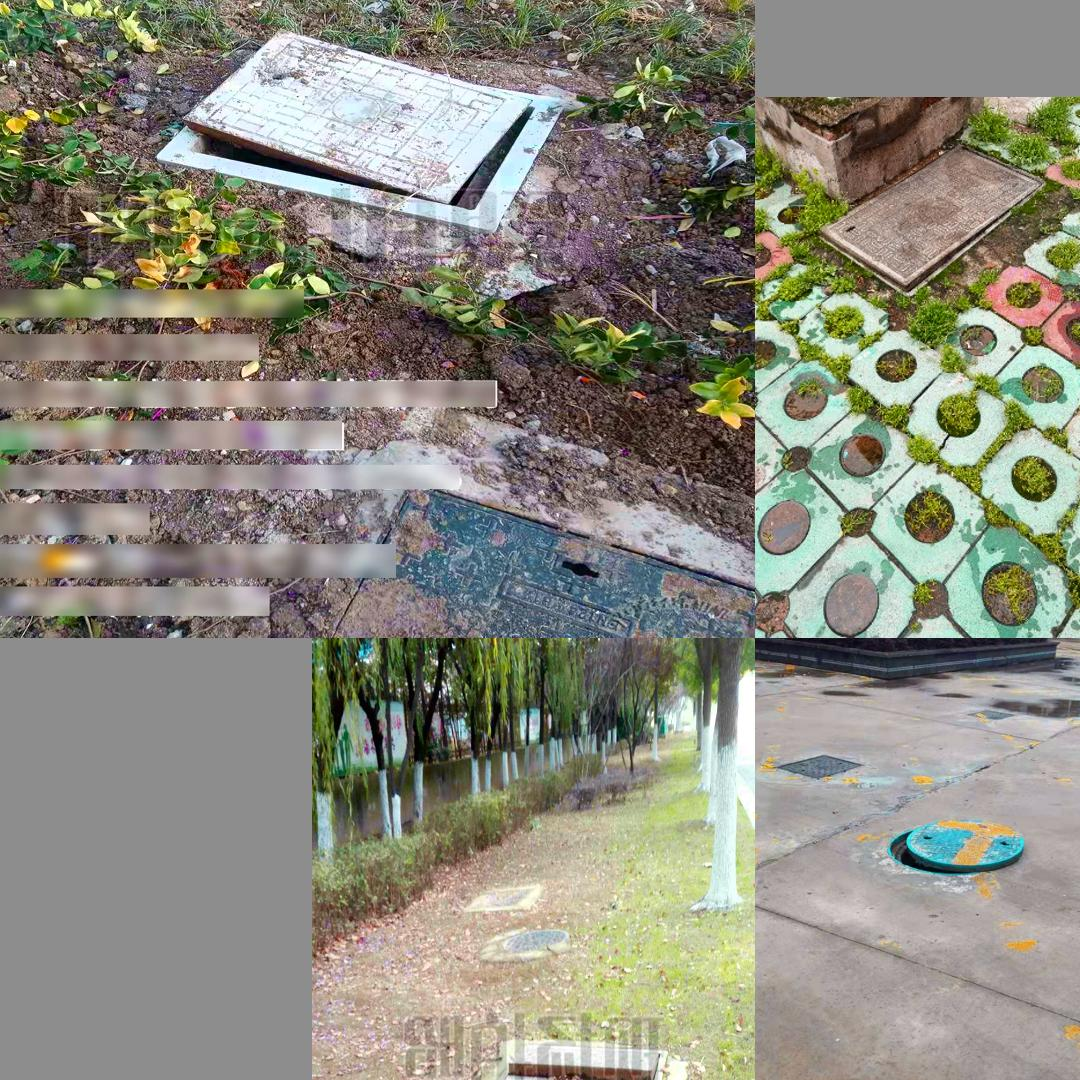good: (490, 926, 569, 960), (469, 884, 535, 915)
uncovered: (152, 30, 569, 228), (812, 143, 1045, 294), (446, 1040, 670, 1080), (886, 821, 1022, 875)
